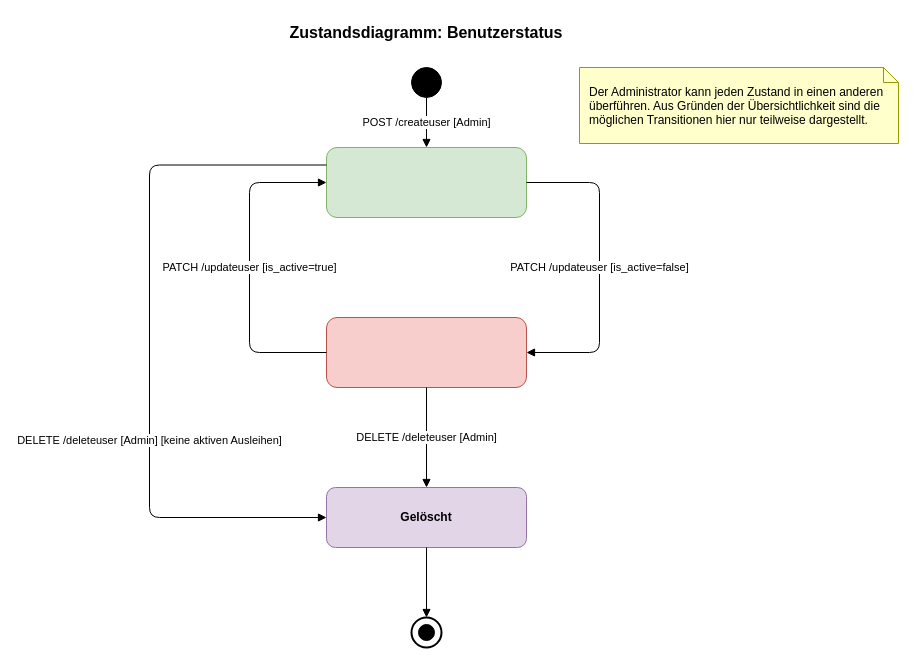
Image size: 916x665. Some labels were removed from this diagram. Each missing label, with the box of its shape:
Aktiv: (326, 146, 526, 218)
Inaktiv: (326, 316, 526, 388)
